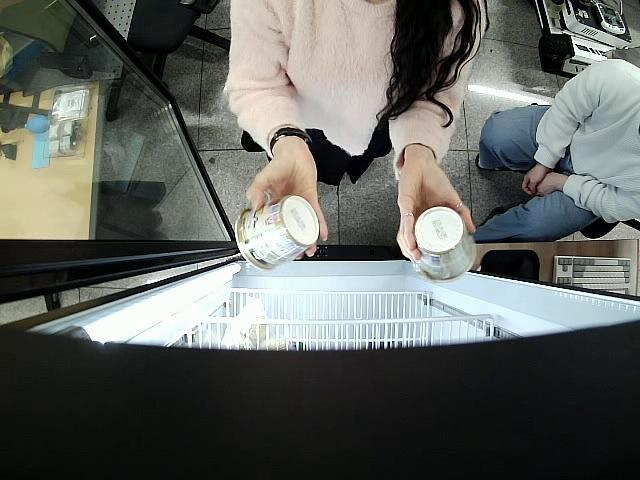04_chapagetti_S: (236, 197, 318, 272), (411, 206, 476, 282)
